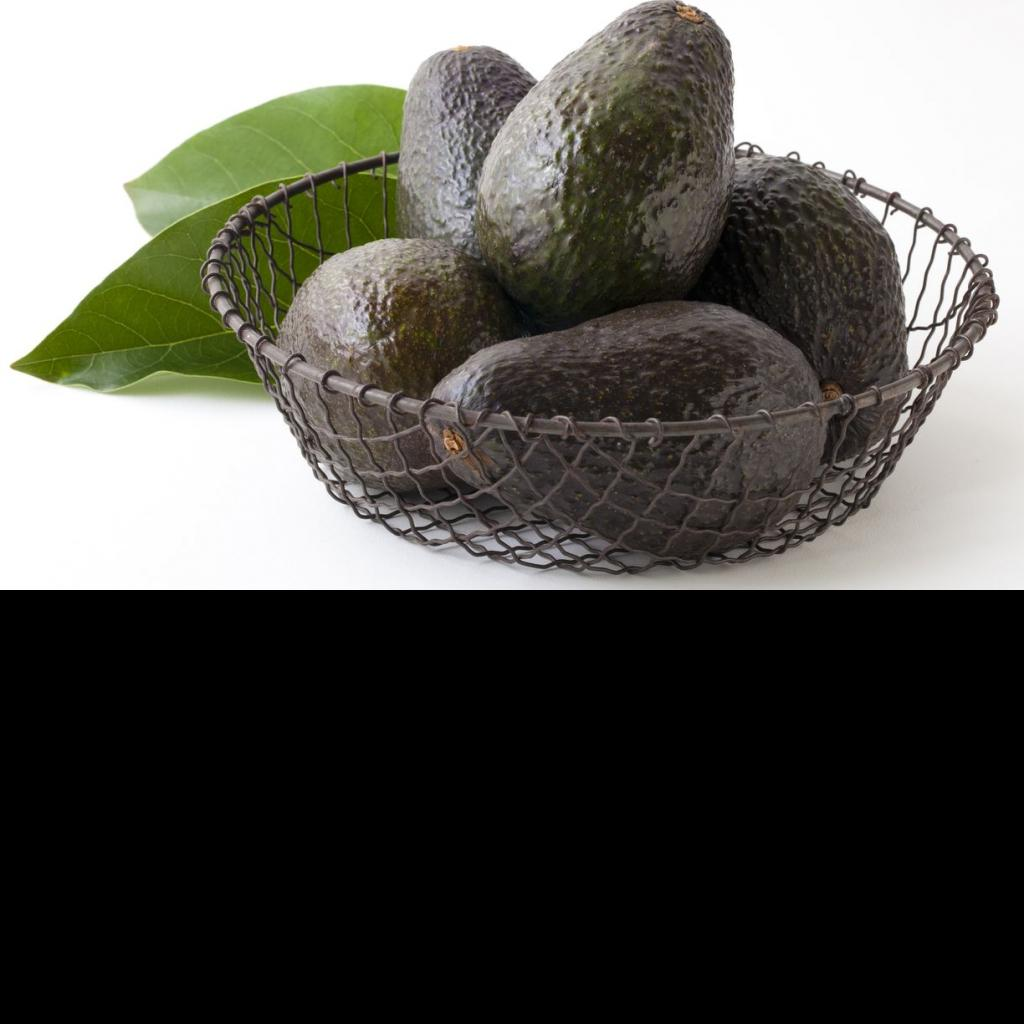ripe: (429, 299, 828, 557), (476, 1, 735, 329), (276, 239, 525, 495), (704, 153, 908, 461), (396, 45, 536, 270)
